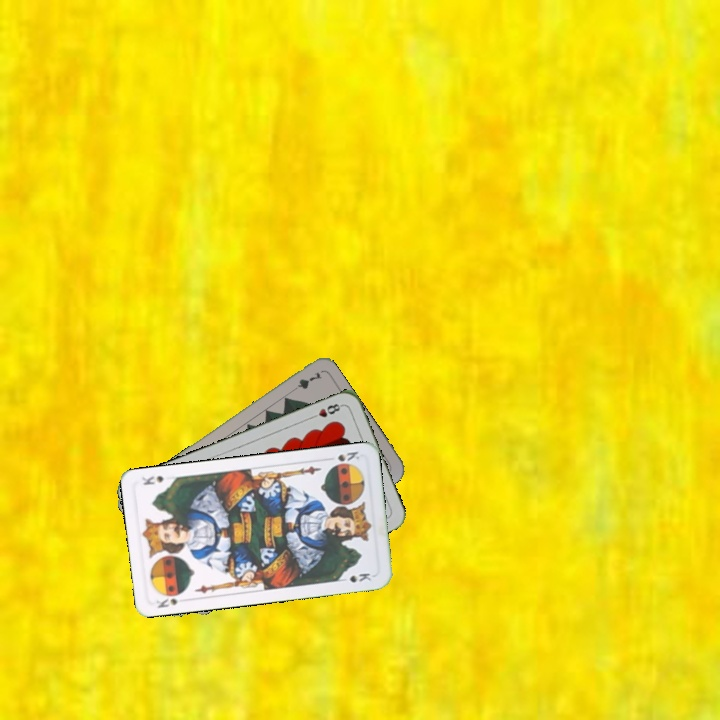G7: (286, 367, 324, 396)
H8: (306, 399, 345, 422)
SK: (152, 588, 190, 610), (333, 447, 362, 464)
